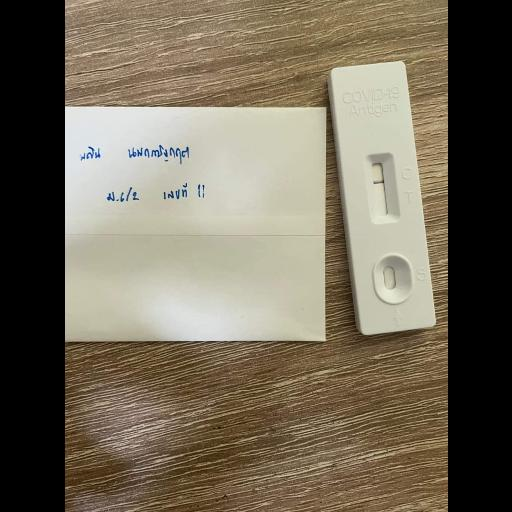Neg: (329, 59, 437, 334)
